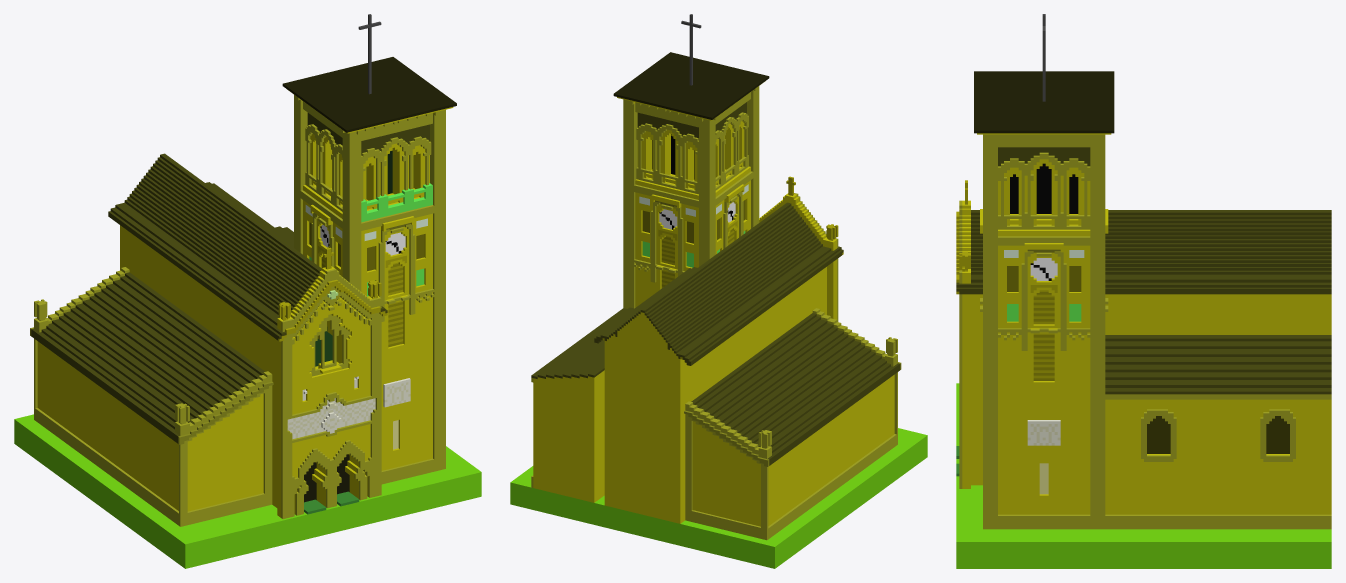
File: church_pixel_art.glb
3 renders of one model, left to right at view 1: azimuth 30°, elevation 25°; view 2: azimuth 150°, elevation 25°; view 3: azimuth 270°, elevation 25°, orthographic. The views are drawn at different scales.
Parts seen in each view (by area): view 1: mainDoor_2, room_3, siol1_6, siol2_0, ground_5; view 2: mainDoor_2, room_3, siol2_0, ground_5, siol1_6, room.001_4; view 3: room.001_4, siol1_6, mainDoor_2, siol2_0, ground_5.
Part boxes in pixels (x1,y1,x2,y2): mainDoor_2: (108, 153, 387, 518); room_3: (30, 267, 273, 526); siol1_6: (294, 186, 445, 484); siol2_0: (282, 57, 456, 226); ground_5: (14, 414, 481, 568); mainDoor_2: (594, 176, 843, 523); room_3: (684, 308, 901, 540); siol2_0: (613, 52, 769, 203); ground_5: (510, 428, 927, 568); siol1_6: (623, 168, 759, 308); room.001_4: (531, 307, 633, 502); room.001_4: (1105, 335, 1331, 529); siol1_6: (980, 209, 1108, 529); mainDoor_2: (956, 180, 1331, 488); siol2_0: (974, 71, 1114, 237); ground_5: (956, 383, 1331, 568).
Bounding box in the file's own units: 12.6 × 19.1 × 12.6.
1 material, 1 textured.
